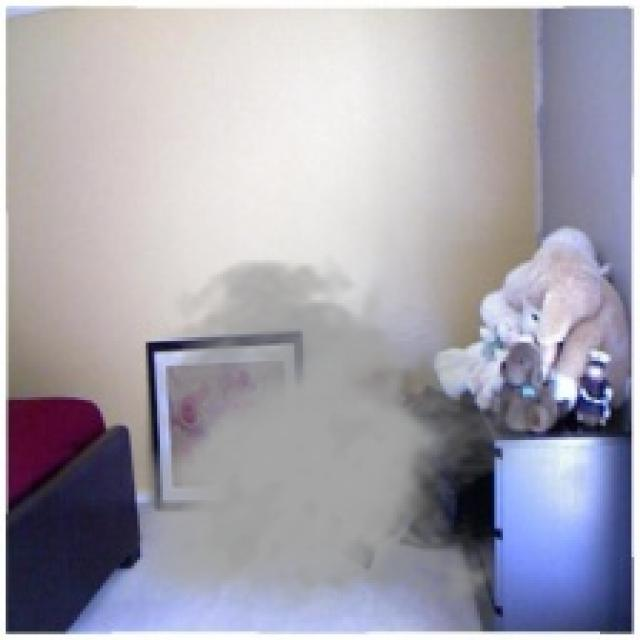smoke: (123, 254, 537, 617)
